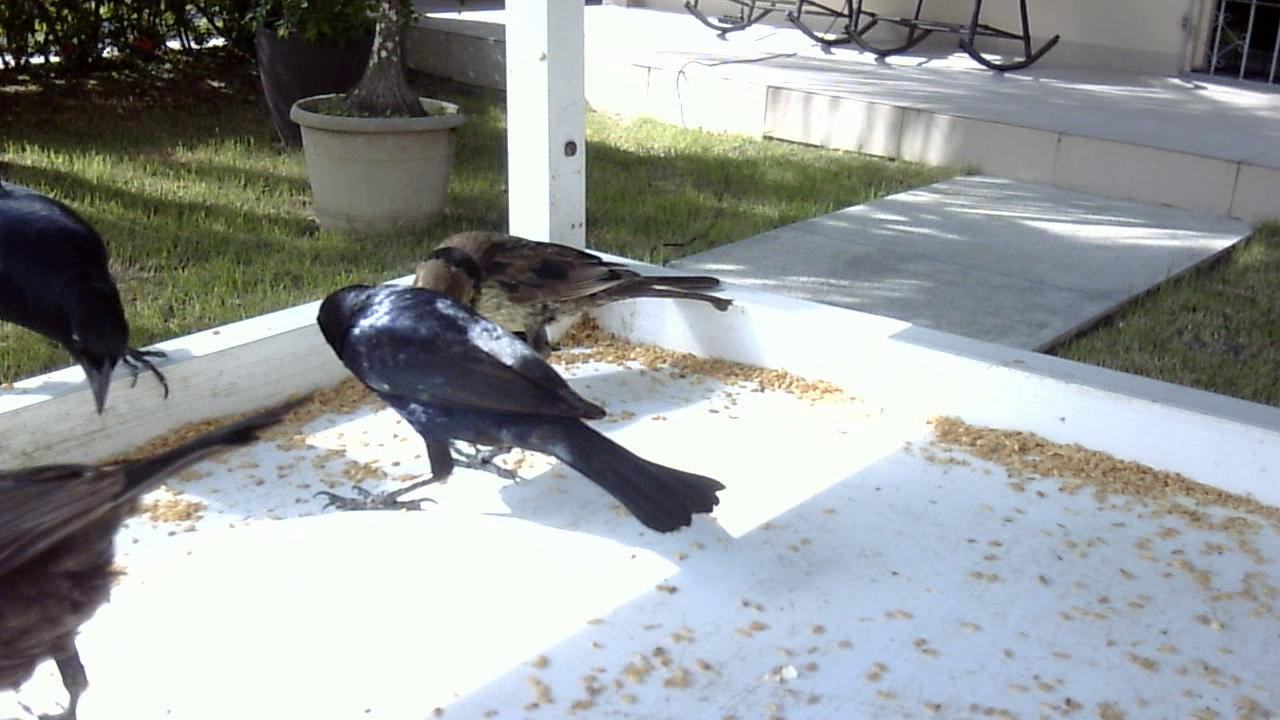chupim: (294, 256, 739, 538), (3, 400, 293, 720), (403, 220, 747, 368), (3, 171, 179, 433)
